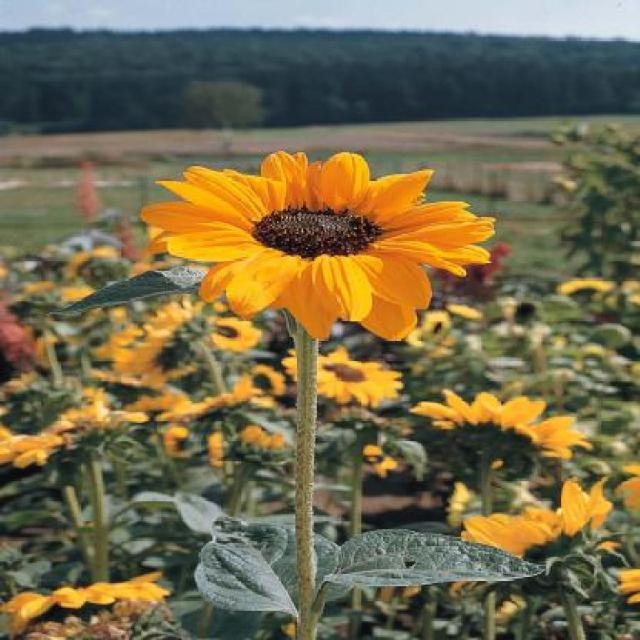sunflower: (148, 150, 528, 364)
